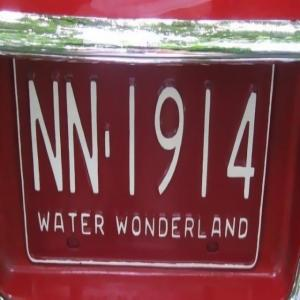Plate: (7, 23, 283, 295)
